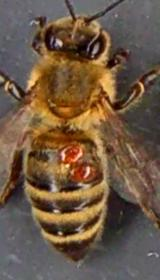varroa_mite: (61, 159, 98, 185), (52, 138, 89, 162)
